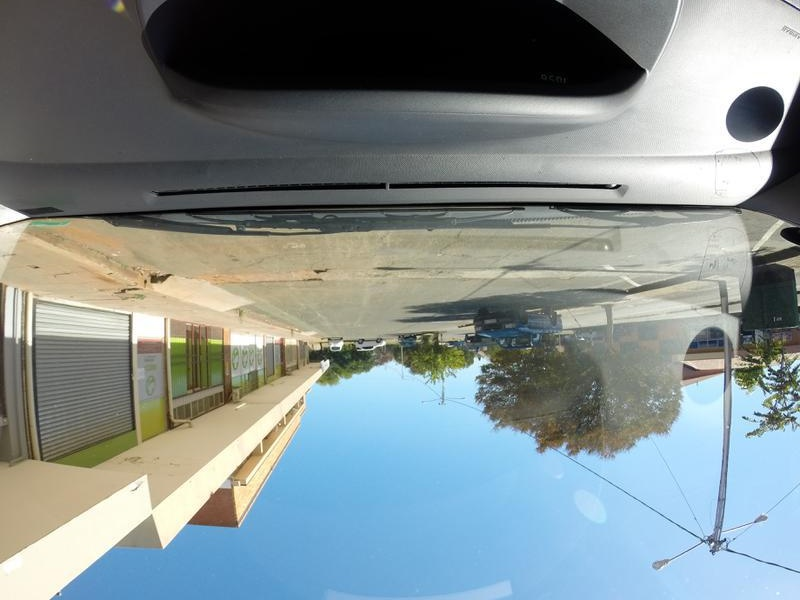pothole: (195, 270, 318, 283)
